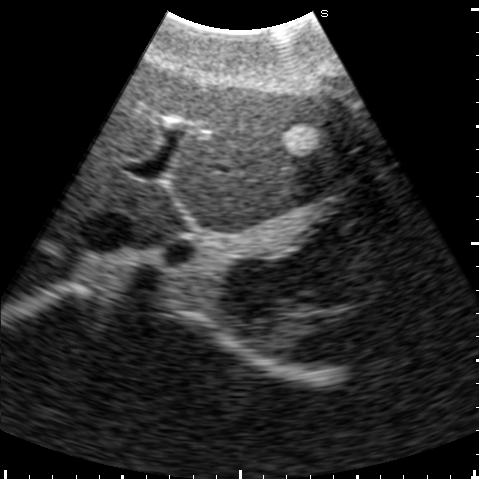IVC: (77, 210, 134, 251)
S1: (129, 184, 188, 247)
S2: (169, 141, 387, 235)
S3: (176, 84, 382, 199)
Tumor: (279, 123, 319, 156)
